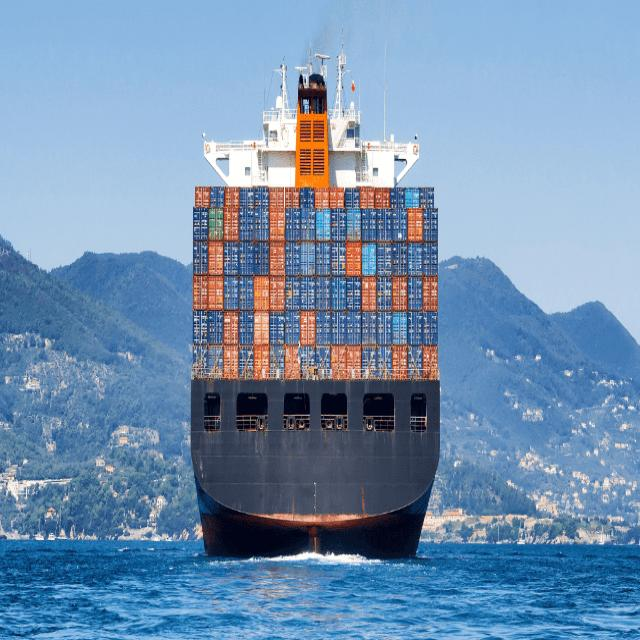boat: (186, 44, 445, 583)
